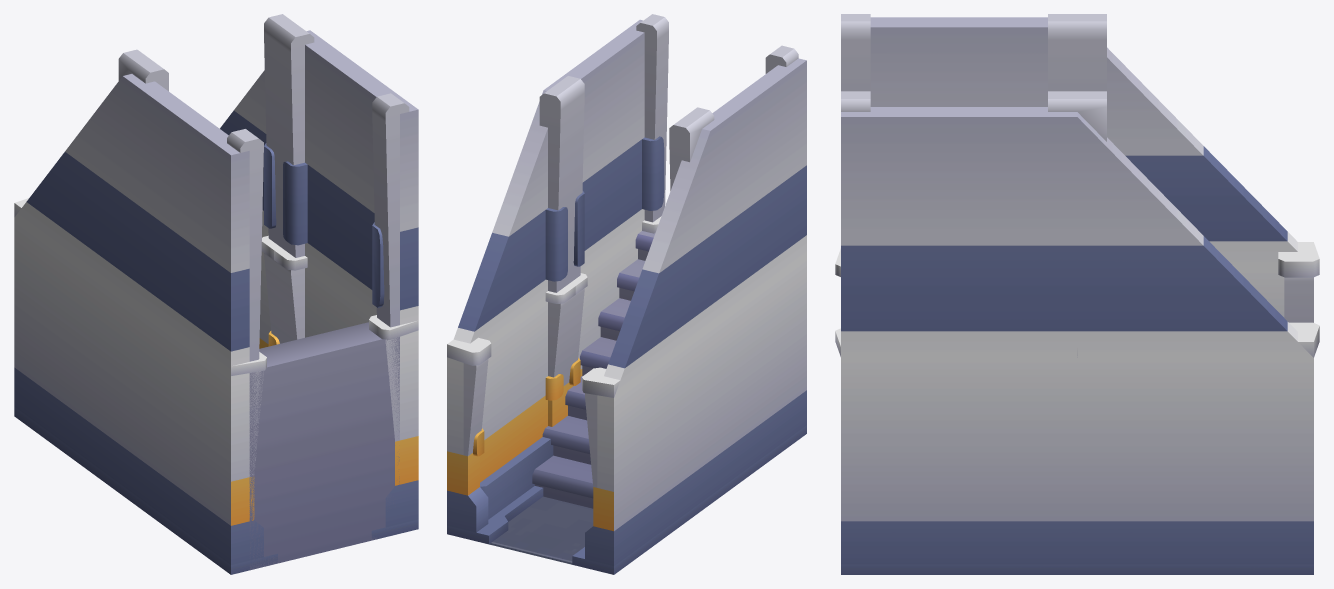
File: stairs.glb
3 views of the same model, side by side, from view 1: azimuth 30°, elevation 25°; view 2: azimuth 150°, elevation 25°; view 3: azimuth 270°, elevation 25° (orthographic). The views are drawn at different scales.
Visible parts, largest first — view 1: stairs; view 2: stairs; view 3: stairs.
Part boxes in pixels (box(x1,y1,x2,y2)): stairs: box(14, 14, 418, 574); stairs: box(447, 14, 806, 574); stairs: box(835, 14, 1319, 574).
Size of the model in its own units: 4 by 8.75 by 8.2.
1 material, 1 textured.
